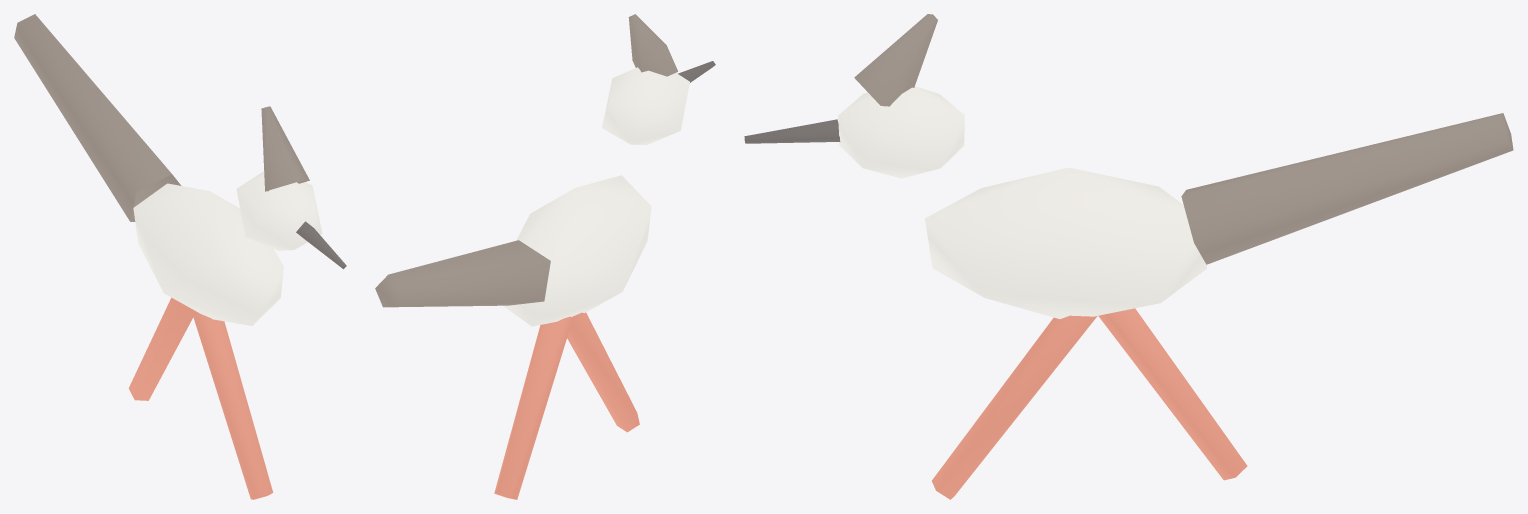
File: Blender_Roadrunner_1.glb
The picture shows the model from 3 angles, left to right: view 1: azimuth 30°, elevation 25°; view 2: azimuth 150°, elevation 25°; view 3: azimuth 270°, elevation 25°; orthographic projection. The views are drawn at different scales.
Visible parts, largest first — view 1: Blender_Roadrunner_1; view 2: Blender_Roadrunner_1; view 3: Blender_Roadrunner_1.
Part boxes in pixels (box(x1,y1,x2,y2)): Blender_Roadrunner_1: box(14, 14, 346, 499); Blender_Roadrunner_1: box(375, 14, 715, 499); Blender_Roadrunner_1: box(744, 14, 1513, 499).
Size of the model in its own units: 0.1211 by 0.511 by 0.7365.
